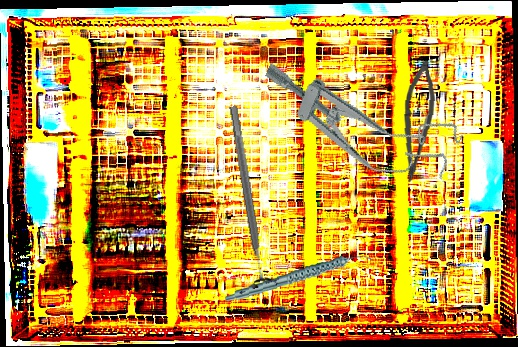Fixation Ring: (219, 103, 280, 290)
Handpiece: (222, 252, 375, 303)
Micro Scissor: (398, 60, 439, 183)
Speculum: (247, 47, 466, 199)
